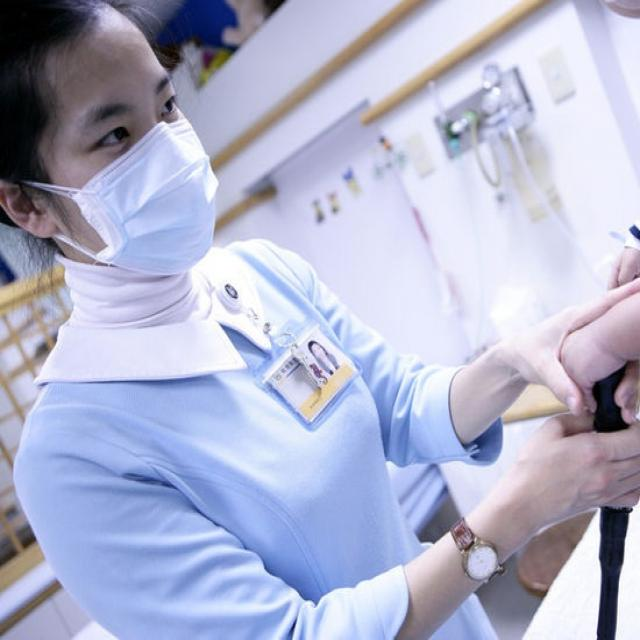mask: (35, 16, 205, 270)
